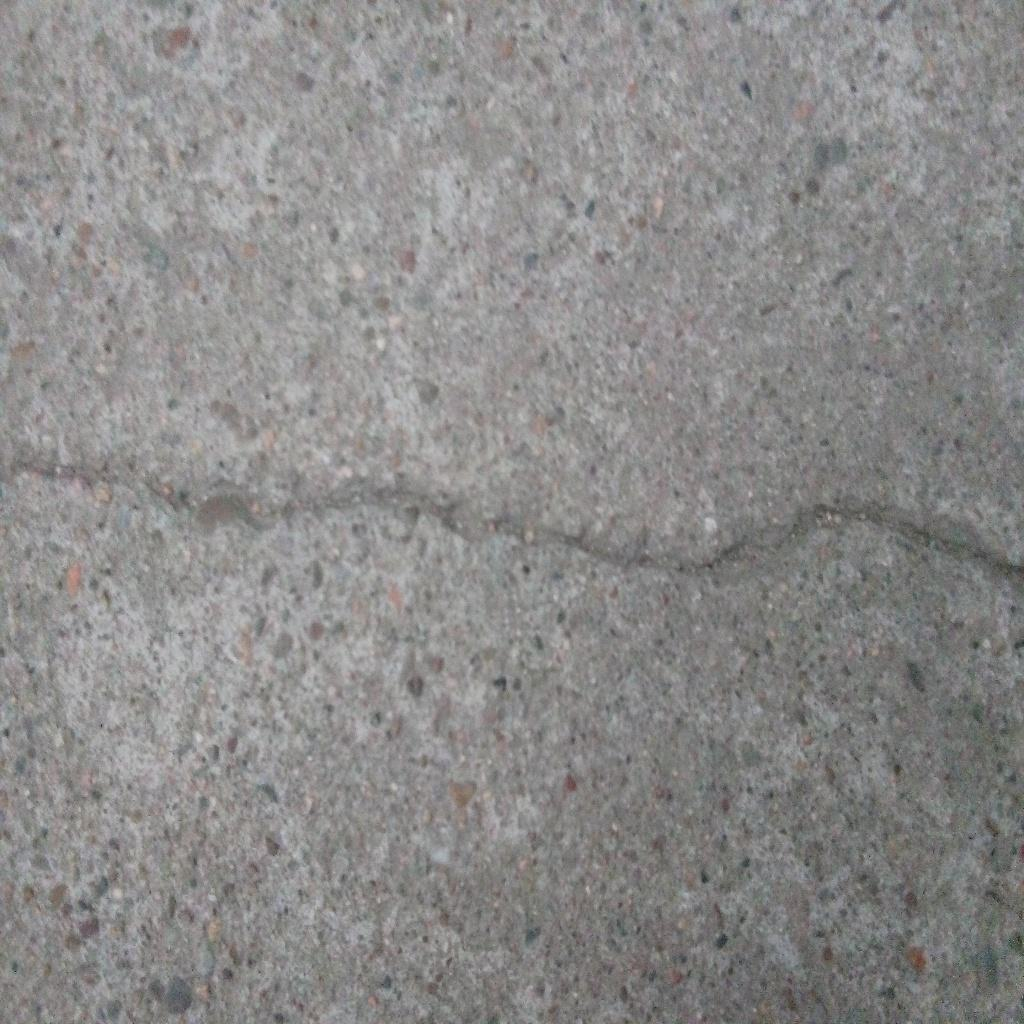Crack: (1, 454, 1024, 582)
